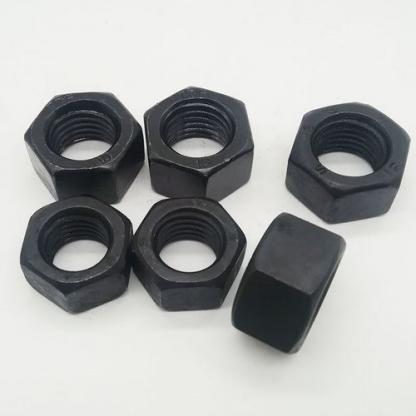FOD: (227, 210, 347, 357), (282, 99, 414, 225), (17, 192, 134, 316), (21, 91, 146, 203), (133, 192, 246, 314), (143, 86, 254, 204)
